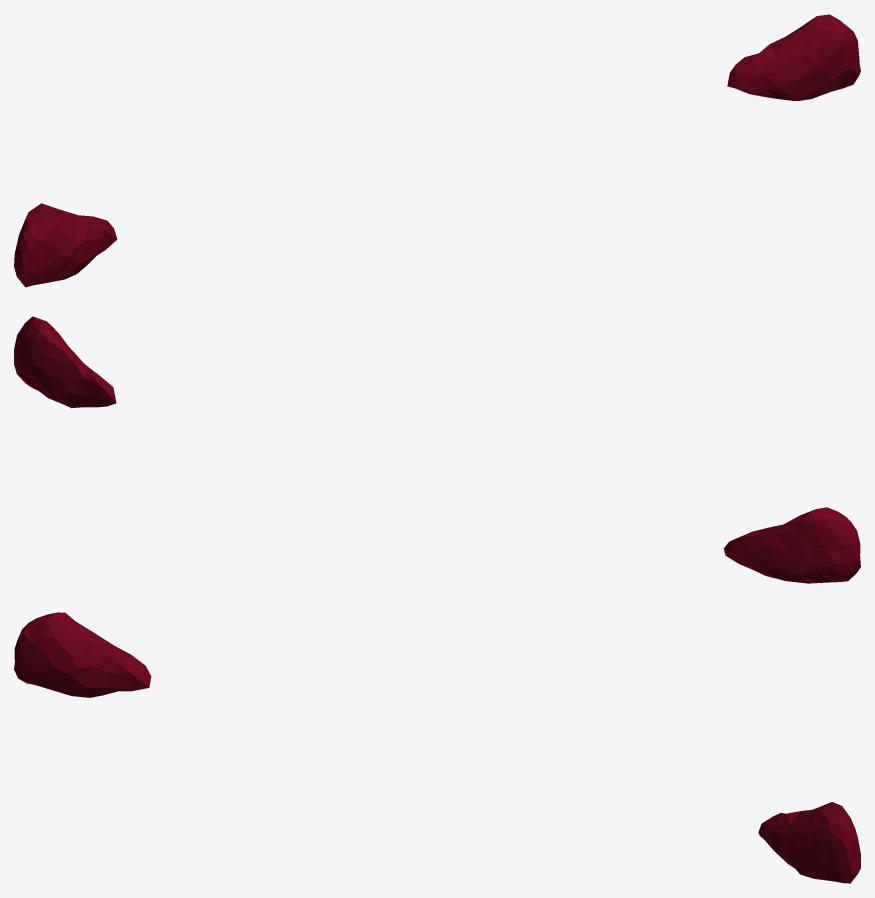
The model's file is 60-POa-parietooccipital associated area in the intraparietal sulcus-('0.4980', '0.0000', '0.1137').obj.
3 views of the same model, one above another, from view 1: azimuth 30°, elevation 25°; view 2: azimuth 150°, elevation 25°; view 3: azimuth 330°, elevation 25° (orthographic).
Bounding box in the file's own units: 282 × 24.7 × 14.67.
